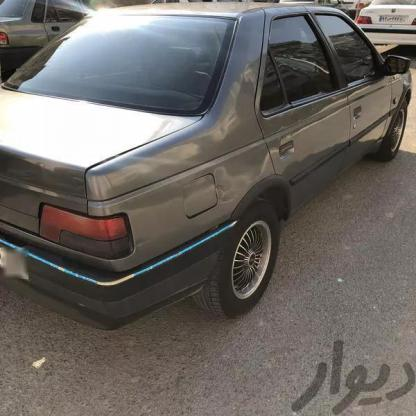Car: (0, 0, 416, 327), (349, 0, 416, 68), (0, 0, 83, 54)
